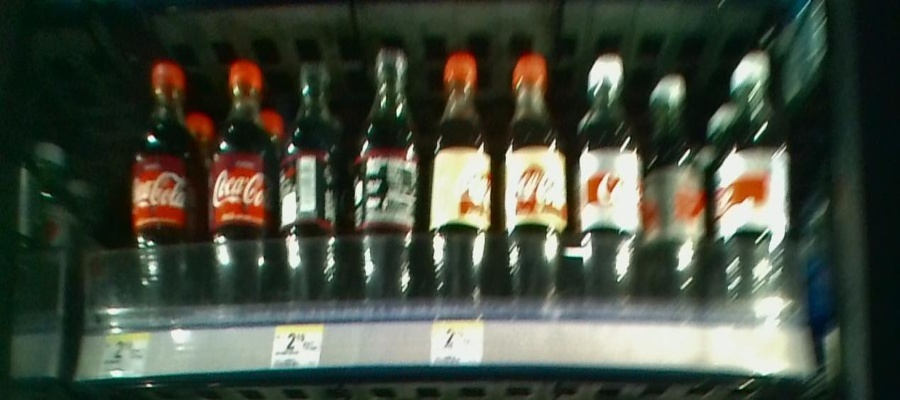bottle: (709, 52, 792, 314), (126, 50, 204, 310), (272, 55, 351, 310), (422, 45, 497, 312), (572, 44, 644, 315), (502, 47, 570, 314), (352, 47, 419, 307), (205, 57, 272, 313), (647, 68, 706, 312)
